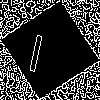I: (25, 25, 49, 73)
